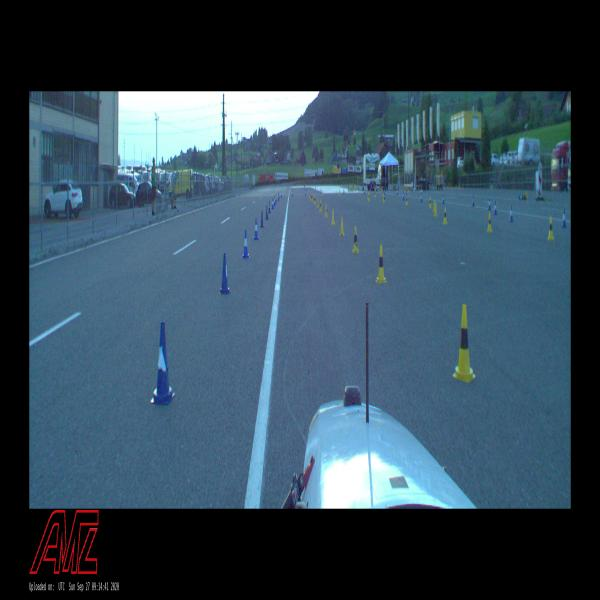blue_cone: (150, 321, 176, 405), (219, 253, 231, 295), (242, 230, 250, 258), (254, 218, 259, 240), (260, 210, 265, 228), (562, 208, 566, 228), (265, 205, 269, 220), (510, 206, 513, 222), (494, 201, 497, 215), (488, 198, 491, 210), (268, 201, 271, 213), (472, 196, 475, 206), (420, 194, 423, 202), (272, 199, 274, 210), (274, 196, 276, 206), (276, 194, 277, 203), (403, 192, 404, 200), (278, 193, 279, 201)
yellow_cone: (452, 304, 476, 383), (376, 245, 387, 283), (353, 226, 359, 254), (548, 216, 554, 241), (487, 212, 492, 232), (443, 208, 448, 224), (340, 216, 344, 236), (331, 209, 335, 226), (434, 203, 438, 216), (429, 196, 432, 208), (319, 200, 322, 212), (325, 203, 327, 218), (433, 201, 435, 212), (406, 195, 408, 205), (383, 194, 385, 204), (317, 198, 319, 208), (368, 193, 370, 202), (374, 189, 376, 197), (311, 194, 313, 202), (314, 195, 315, 204)
